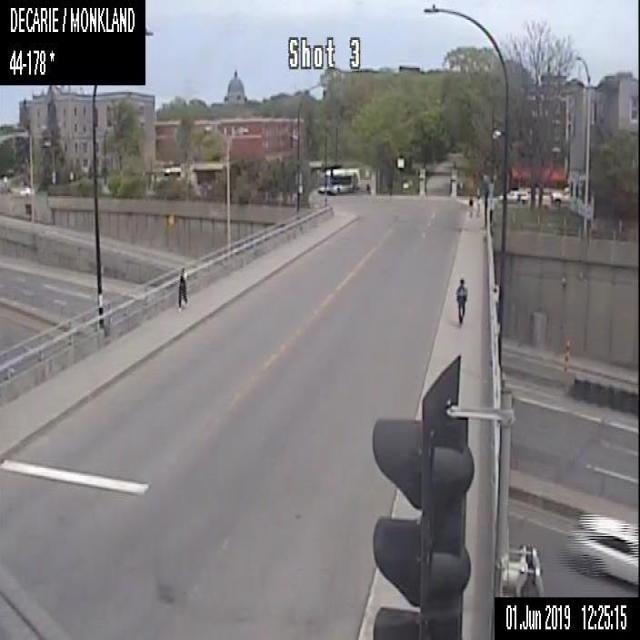bus: (315, 166, 360, 193)
pedestrian: (455, 274, 468, 322), (177, 267, 189, 308), (467, 193, 473, 215), (475, 192, 480, 215)
vehicle: (564, 510, 639, 590), (497, 188, 529, 203), (550, 186, 568, 202)
